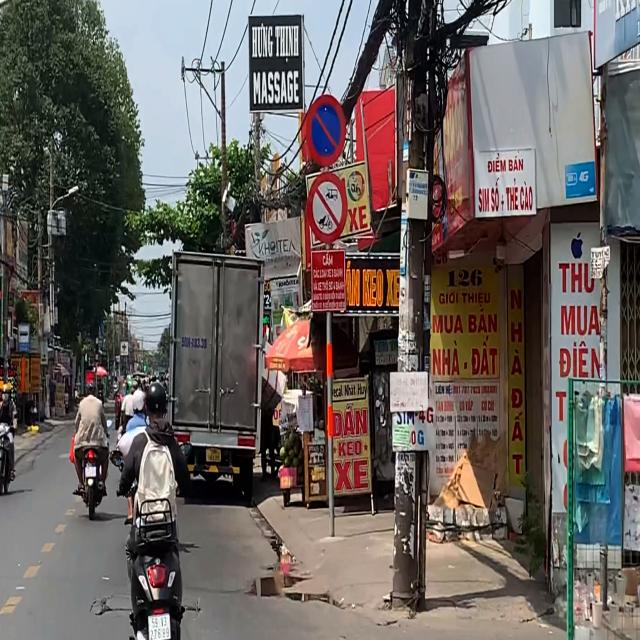Cam con lai: (306, 173, 346, 247)
Cam do: (305, 94, 344, 167)
